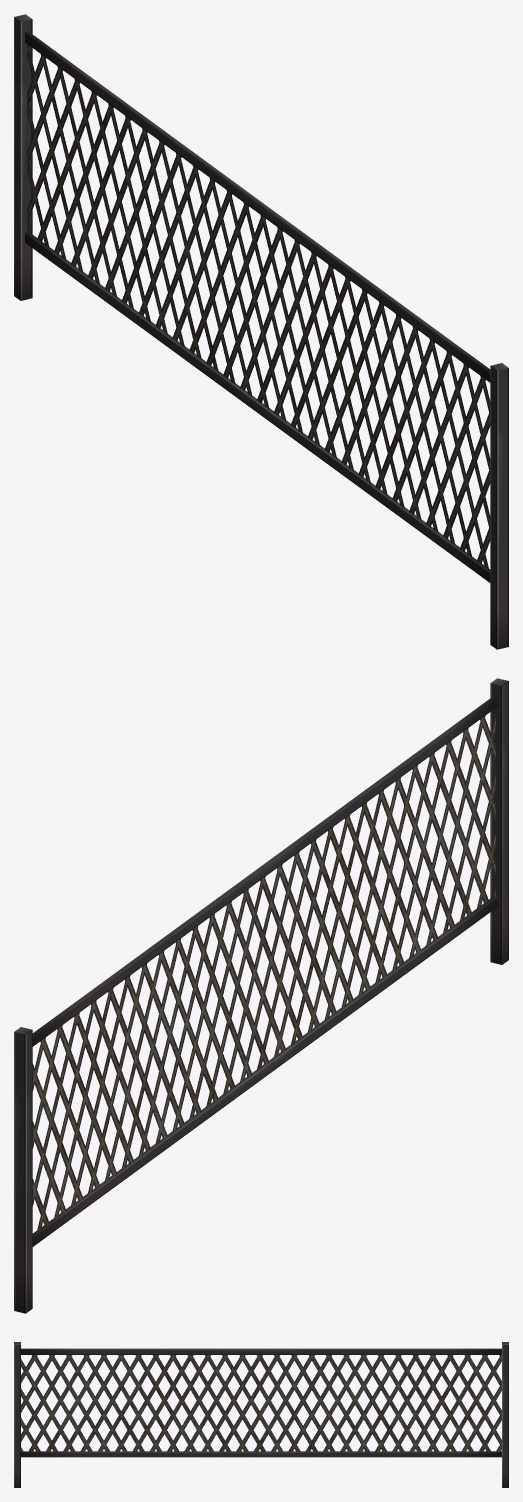
The model's file is Barrier.fbx.
3 views of the same model, one above another, from view 1: azimuth 30°, elevation 25°; view 2: azimuth 150°, elevation 25°; view 3: azimuth 270°, elevation 25° (orthographic). The views are drawn at different scales.
Parts seen in each view (by area): view 1: Barrier; view 2: Barrier; view 3: Barrier.
Part boxes in pixels (x1,y1,x2,y2): Barrier: (14,14,508,649); Barrier: (14,678,508,1313); Barrier: (14,1342,508,1487).
Bounding box in the file's own units: 34.66 × 782 × 2455.
